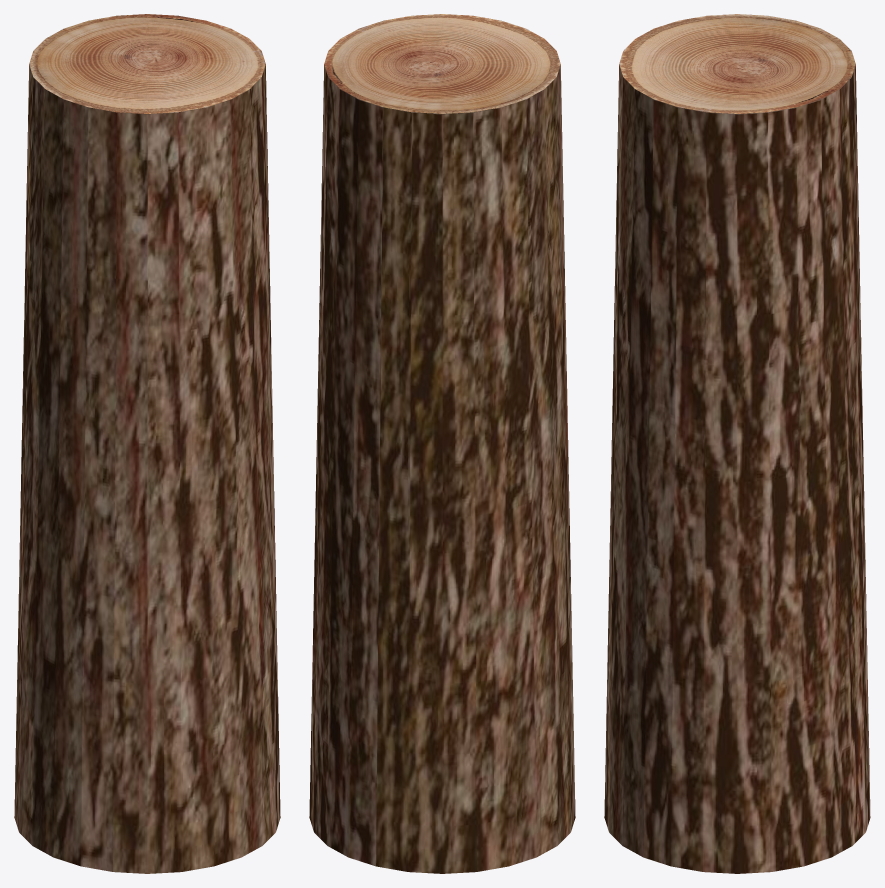
File: _tump.fbx
The picture shows the model from 3 angles, left to right: view 1: azimuth 30°, elevation 25°; view 2: azimuth 150°, elevation 25°; view 3: azimuth 270°, elevation 25°; orthographic projection.
Parts seen in each view (by area): view 1: stump; view 2: stump; view 3: stump.
Part boxes in pixels (bbox=[...]): stump: bbox=[14, 14, 280, 873]; stump: bbox=[309, 14, 575, 873]; stump: bbox=[604, 14, 870, 873].
Size of the model in its own units: 14.1 by 44.08 by 14.1.
Materials: 2 (2 with a texture image).
